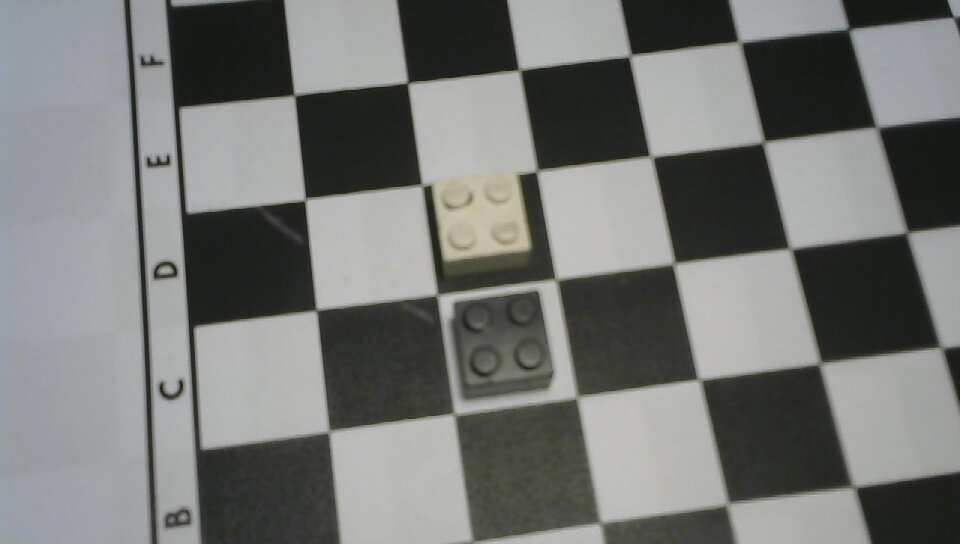wp: (424, 161, 537, 285)
